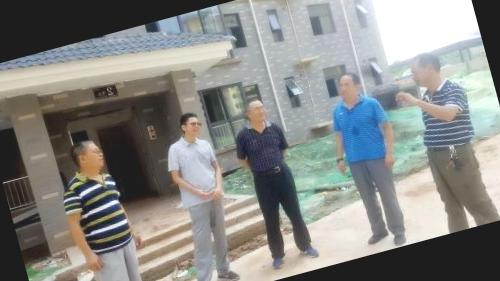no_helmet: (61, 130, 110, 182), (404, 44, 448, 94), (329, 65, 365, 106), (240, 92, 272, 129), (172, 107, 207, 140)
